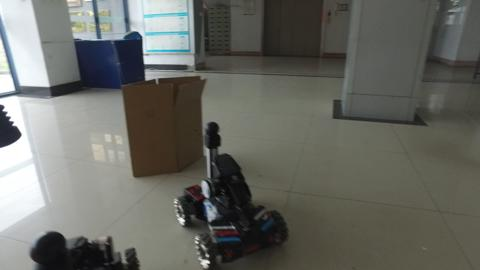box: (124, 74, 203, 175)
chariot: (173, 119, 289, 269)
